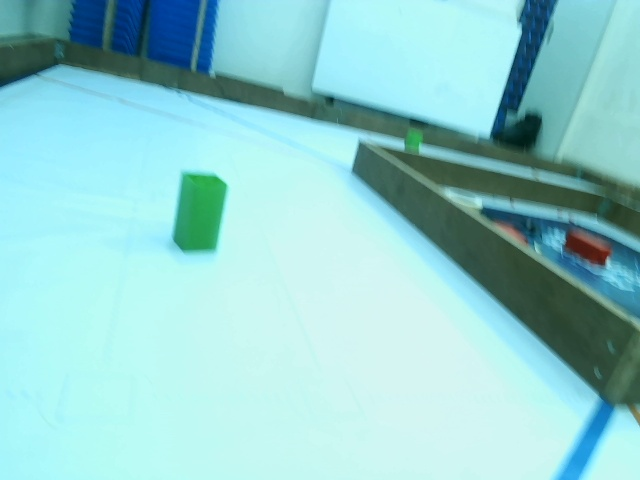green: (175, 169, 229, 264)
